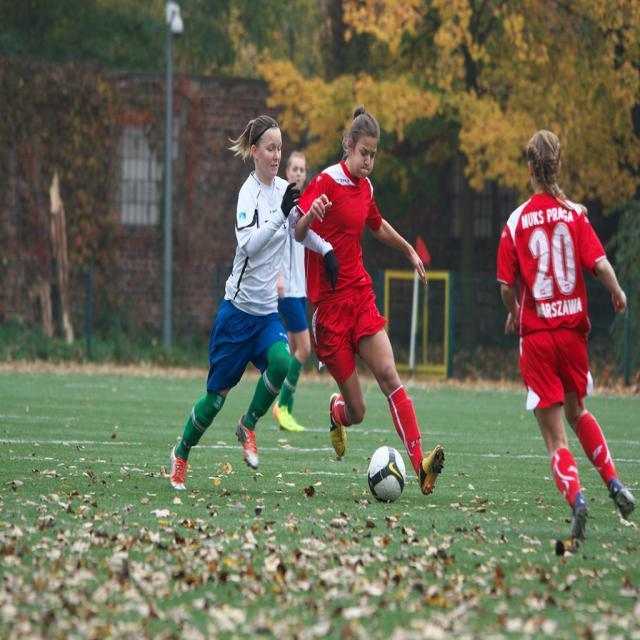football: (357, 435, 421, 523)
